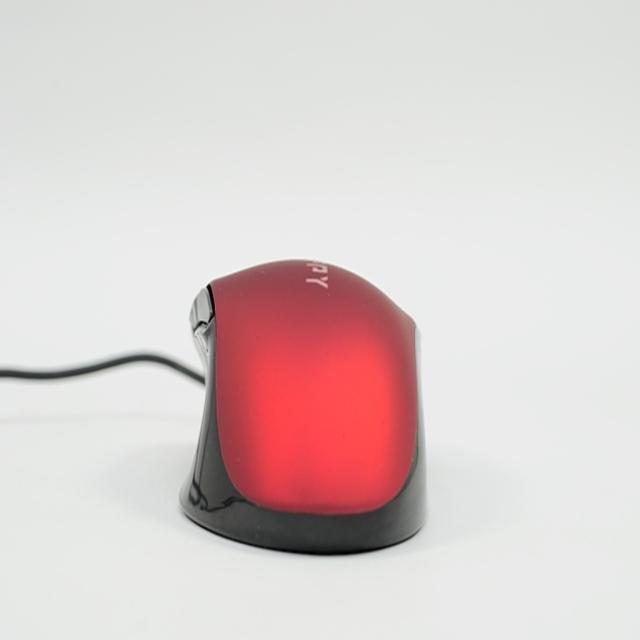Computer mouse: (178, 252, 425, 556)
